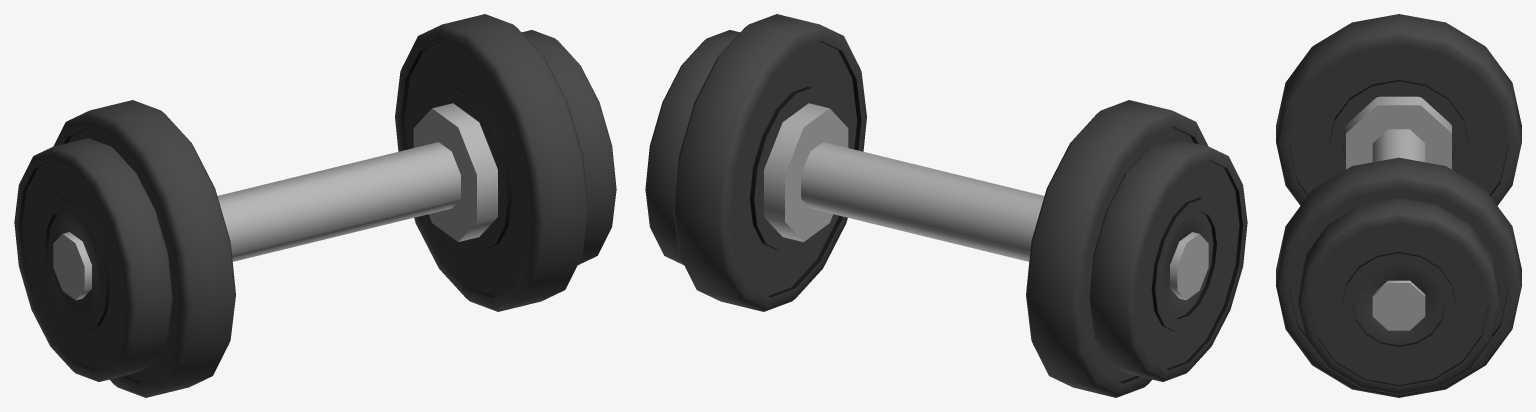
File: Gantelya.fbx
3 renders of one model, left to right at view 1: azimuth 30°, elevation 25°; view 2: azimuth 150°, elevation 25°; view 3: azimuth 270°, elevation 25°, orthographic. The views are drawn at different scales.
Visible parts, largest first — view 1: Gantelya; view 2: Gantelya; view 3: Gantelya.
Boxes of the visible parts, left/top/right/bottom form: Gantelya: left=14, top=14, right=616, bottom=397; Gantelya: left=645, top=14, right=1247, bottom=397; Gantelya: left=1276, top=14, right=1521, bottom=397.
Bounding box in the file's own units: 0.5 × 0.2591 × 0.2591.
